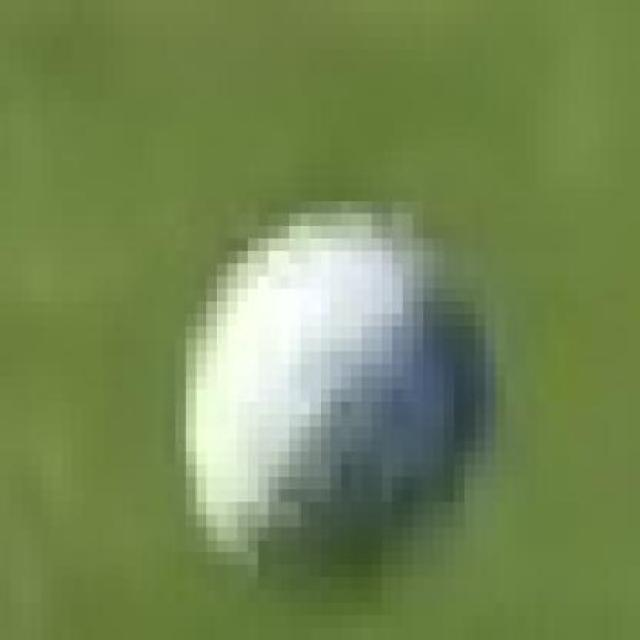Cricket ball: (175, 200, 514, 602)
